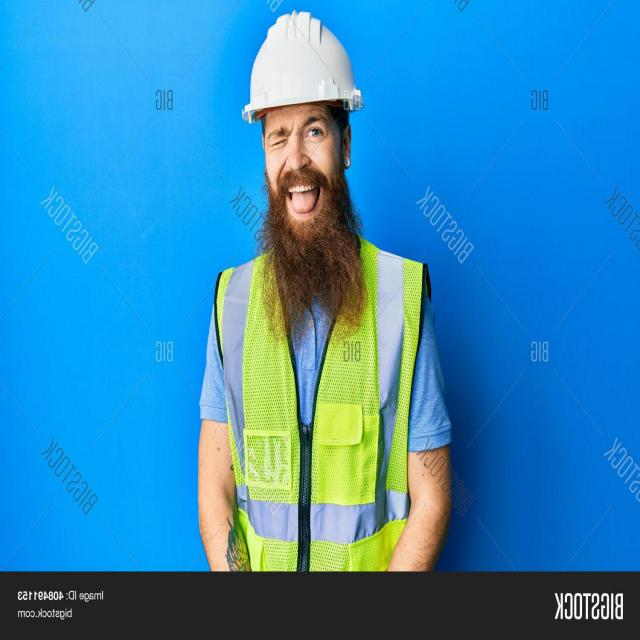Reflective-Jacket: (210, 240, 430, 572)
Safety-Helmet: (243, 8, 361, 116)
